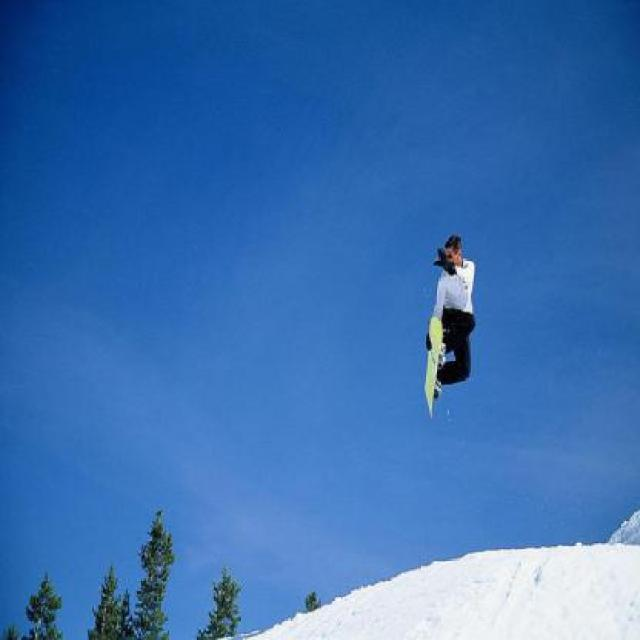Person: (426, 234, 476, 400)
